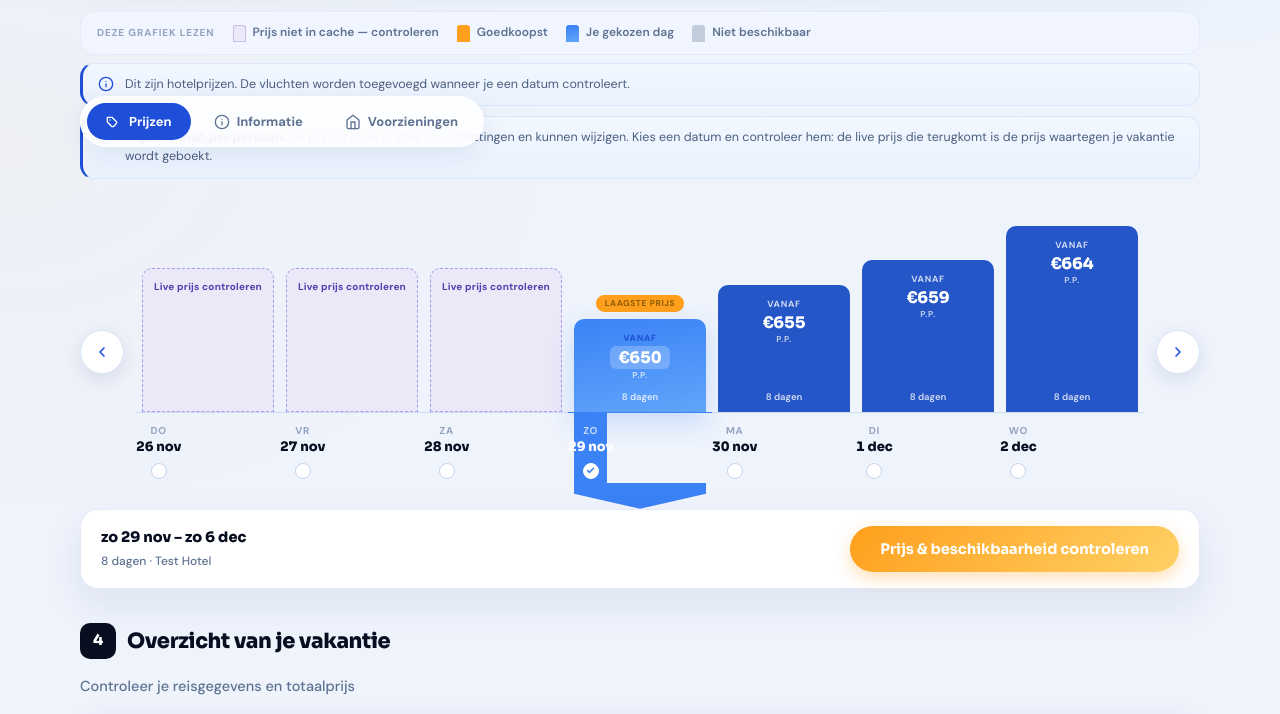
Test: the card and the room list name the same rate › opens on the cheapest rate, and the list ticks that same row
The width and height of the screenshot is (1280, 714).
(page scrolled)
Click the button "Laagste prijs vanaf €650 p.p. 8 dagen zo 29 nov". click: (640, 355)
box: top-left (568, 201), bottom-right (712, 509)
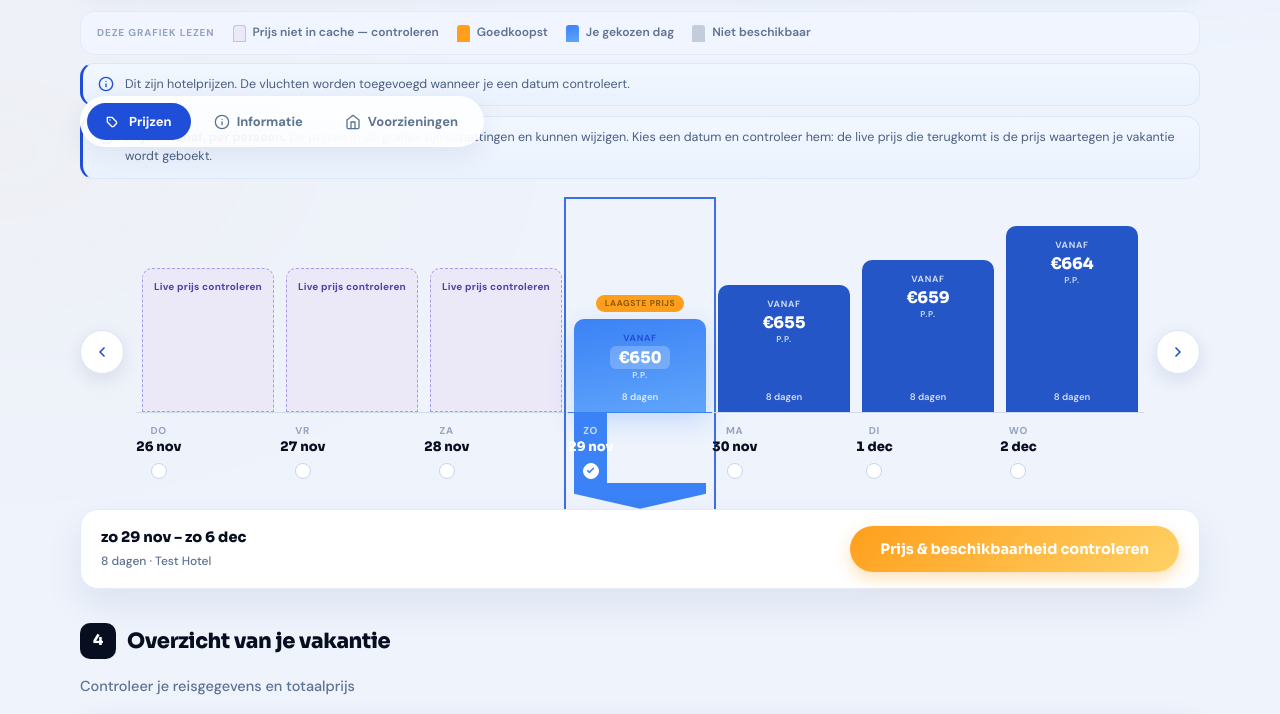
Click the button "Prijs & beschikbaarheid controleren". click: (1015, 549)
box: top-left (850, 526), bottom-right (1179, 572)
(page scrolled)
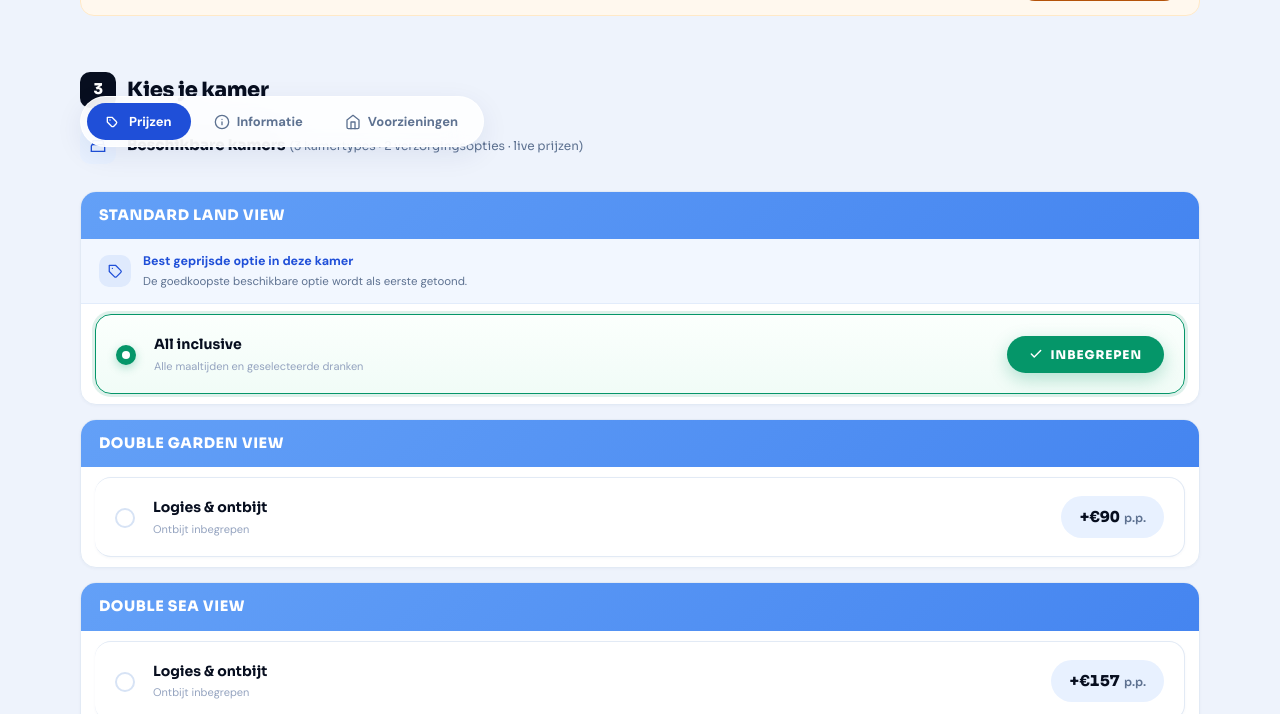
Now the element with class "selected" is shown, box top-left (95, 314), bottom-right (1185, 394)
Now the element with class "selected" shows "All inclusive", box top-left (154, 335), bottom-right (242, 353)
Now the element with class "selected" shows "Inbegrepen", box top-left (1006, 336), bottom-right (1164, 373)
